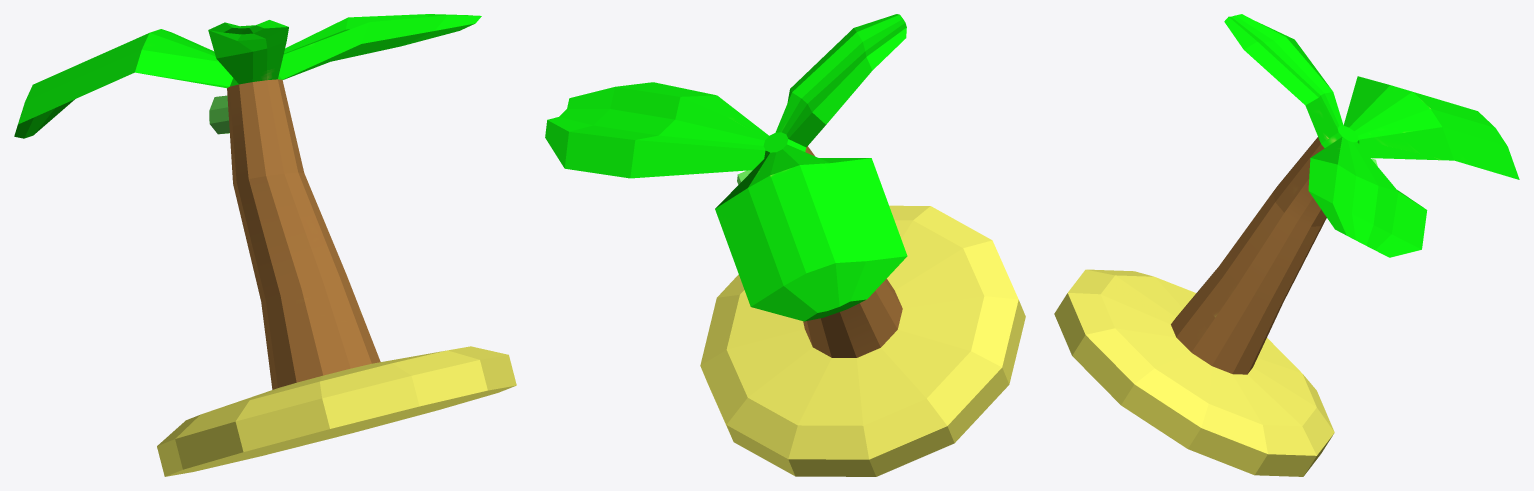
File: yasi.fbx
3 renders of one model, left to right at view 1: azimuth 30°, elevation 25°; view 2: azimuth 150°, elevation 25°; view 3: azimuth 270°, elevation 25°, orthographic. The views are drawn at different scales.
Parts seen in each view (by area): view 1: Cylinder_005; view 2: Cylinder_005; view 3: Cylinder_005.
Boxes of the visible parts, left/top/right/bottom form: Cylinder_005: left=14, top=14, right=516, bottom=476; Cylinder_005: left=545, top=14, right=1025, bottom=476; Cylinder_005: left=1054, top=14, right=1519, bottom=476.
Bounding box in the file's own units: 1082 × 1176 × 1205.
